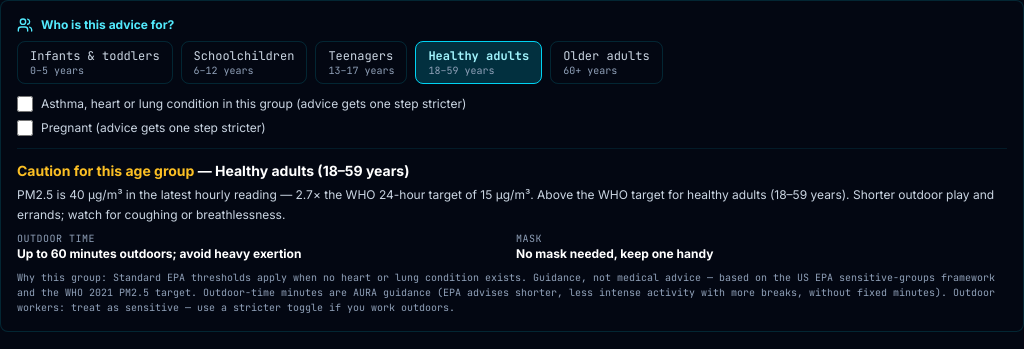
it: AgeGuidance component › the condition checkbox makes an adult stricter without changing age
Click the checkbox labelled "Asthma, heart or lung condition": point(25, 104) [17,96,33,112]
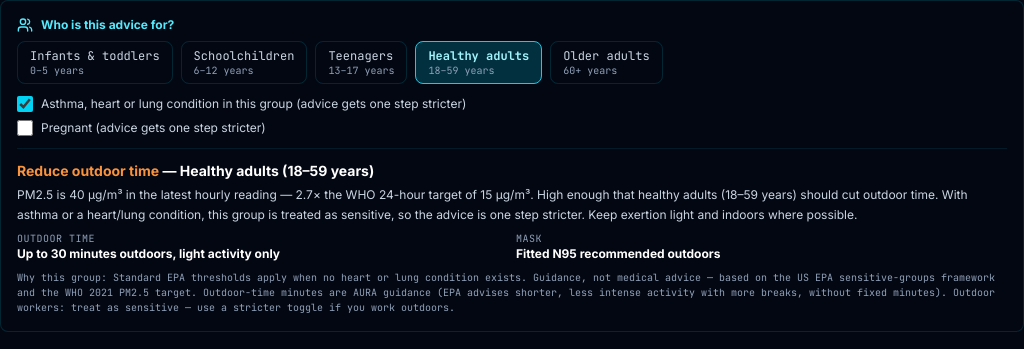
Check: the text "Reduce outdoor time" is shown, box [17,162,159,179]
